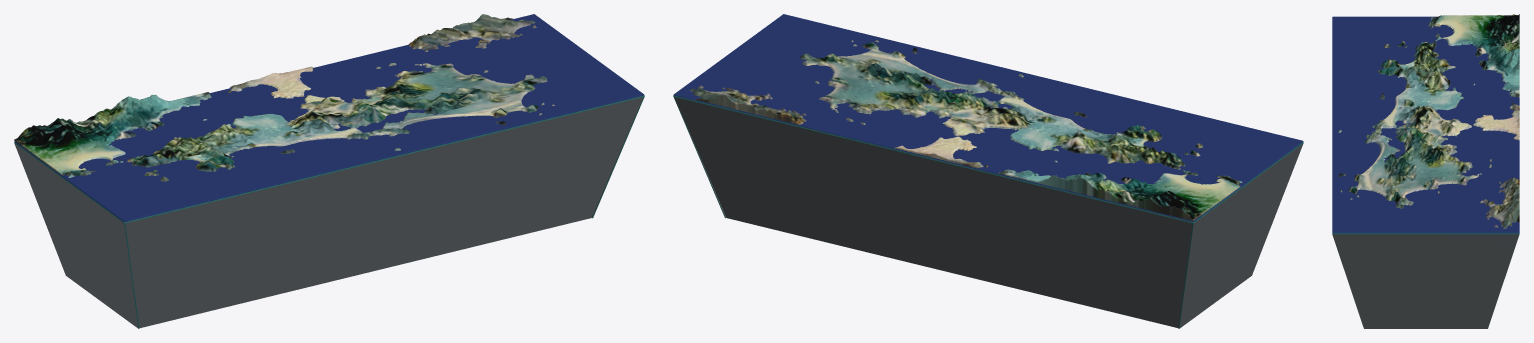
The model's file is island.gltf.
The picture shows the model from 3 angles, left to right: view 1: azimuth 30°, elevation 25°; view 2: azimuth 150°, elevation 25°; view 3: azimuth 270°, elevation 25°; orthographic projection. The views are drawn at different scales.
Parts seen in each view (by area): view 1: SESC-Island, SESC-Island.002, SESC-Island.001_Aggregated; view 2: SESC-Island, SESC-Island.002, SESC-Island.001_Aggregated; view 3: SESC-Island.002, SESC-Island.001_Aggregated, SESC-Island.
Part boxes in pixels (<box>): SESC-Island: <box>14,95,644,328</box>; SESC-Island.002: <box>14,14,644,222</box>; SESC-Island.001_Aggregated: <box>14,14,554,181</box>; SESC-Island: <box>673,95,1303,328</box>; SESC-Island.002: <box>673,14,1303,221</box>; SESC-Island.001_Aggregated: <box>690,40,1242,220</box>; SESC-Island.002: <box>1332,16,1519,233</box>; SESC-Island.001_Aggregated: <box>1338,14,1519,228</box>; SESC-Island: <box>1332,233,1519,328</box>.
Size of the model in its own units: 9 by 2.43 by 3.3.
4 materials, 1 textured.
